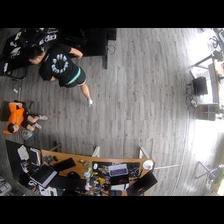normal: (27, 43, 94, 107), (1, 100, 46, 133)
